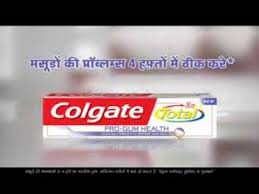colgate-medium: (40, 93, 218, 140)
